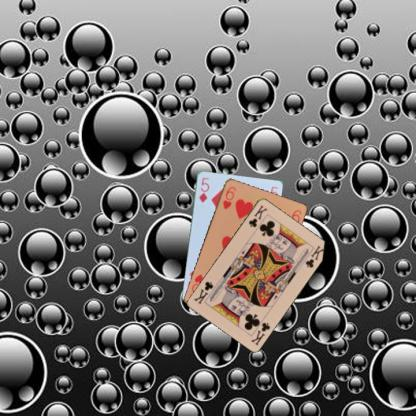5d: (196, 174, 210, 204)
6h: (220, 184, 237, 210)
Kc: (248, 320, 271, 346), (246, 202, 268, 228)
